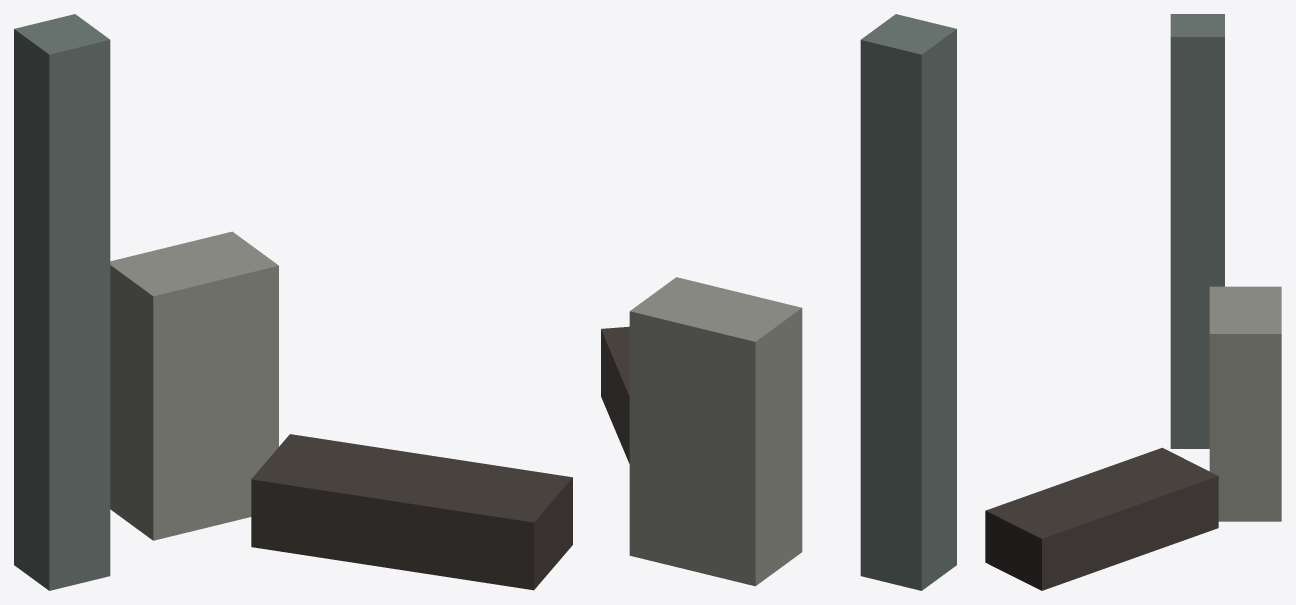
Rendered from SM_senal_via_v4_LOD1.fbx.
3 views of the same model, side by side, from view 1: azimuth 30°, elevation 25°; view 2: azimuth 150°, elevation 25°; view 3: azimuth 270°, elevation 25° (orthographic). The views are drawn at different scales.
Parts seen in each view (by area): view 1: SM_bloques.senal_via_v4_LOD1; view 2: SM_bloques.senal_via_v4_LOD1; view 3: SM_bloques.senal_via_v4_LOD1.
Part boxes in pixels (<box>): SM_bloques.senal_via_v4_LOD1: <box>14,14,572,590</box>; SM_bloques.senal_via_v4_LOD1: <box>601,14,956,590</box>; SM_bloques.senal_via_v4_LOD1: <box>985,14,1281,590</box>.
Size of the model in its own units: 2.45 by 2.85 by 1.86.
